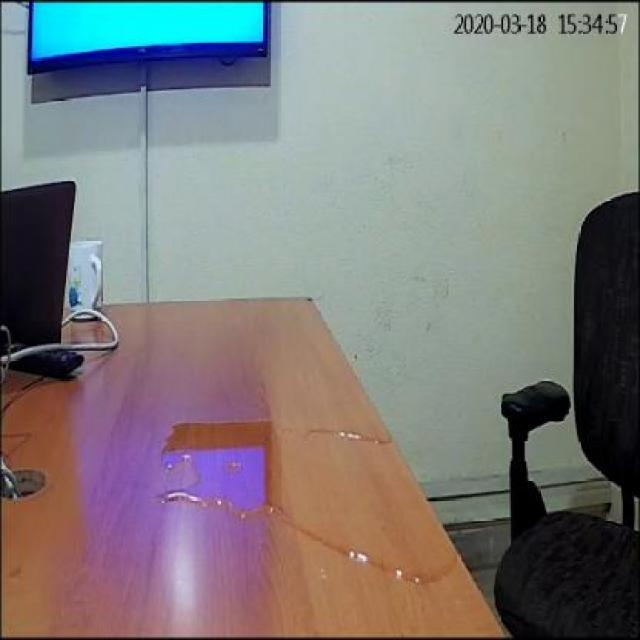spill: (154, 419, 452, 584)
